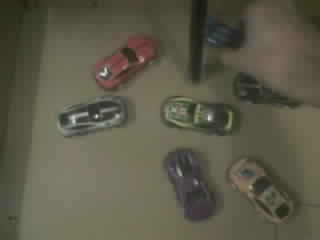Car: (227, 157, 293, 222), (164, 148, 214, 220), (161, 96, 236, 135), (57, 97, 126, 136), (234, 75, 296, 105)
